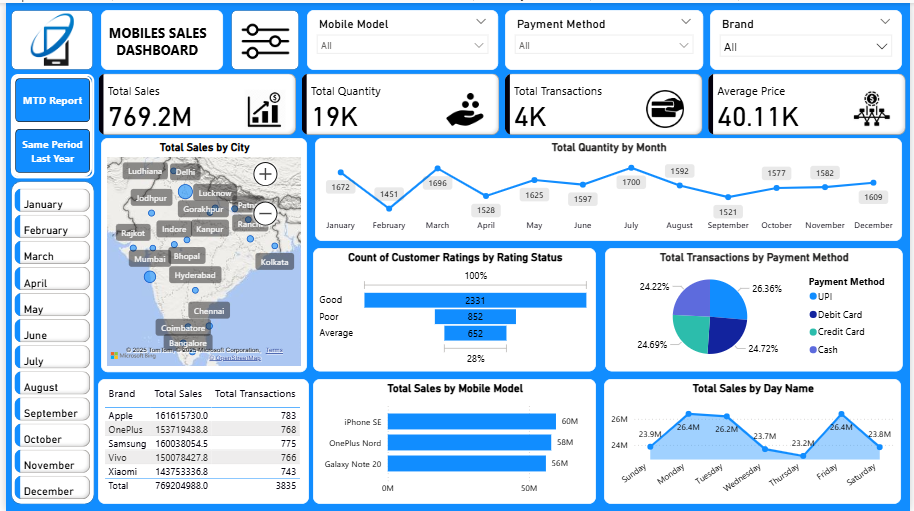

What the dashboard file says about the page in this screenshot:
{"tool":"powerbi","page":{"name":"Dashboard","canvas":[1280,720],"ordinal":0},"visuals":[{"type":"shape","box":[7.1,9.9,116.2,85],"z":0},{"type":"shape","box":[5.7,100.6,117.6,147.4],"z":1000},{"type":"shape","box":[6.7,251.7,118.3,458.3],"z":2000},{"type":"advancedSlicerVisual","fields":{"Values":["Custom_calendar_from_2021_2024.Date.Variation.Date Hierarchy.Month"]},"box":[7.1,258.6,117.1,451.4],"z":3000},{"type":"cardVisual","fields":{"Data":["Mobiles_sales_data.Total Sales","Mobiles_sales_data.Total Quantity","Mobiles_sales_data.Total Transactions","Mobiles_sales_data.Average Price"]},"box":[125.7,94.3,1154.3,97.1],"z":4000},{"type":"image","box":[618,116.2,65.2,69.4],"z":5000},{"type":"image","box":[333.1,113.4,68,75.1],"z":6000},{"type":"image","box":[1196.2,100.6,62.4,97.8],"z":7000},{"type":"image","box":[897.2,116.2,73.7,68],"z":8000},{"type":"slicer","fields":{"Values":["Mobiles_sales_data.Mobile Model"]},"box":[426.6,9.9,270.7,85],"z":9000},{"type":"slicer","fields":{"Values":["Mobiles_sales_data.Payment Method"]},"box":[707.2,9.9,280.6,85],"z":10000},{"type":"slicer","fields":{"Values":["Mobiles_sales_data.Brand"]},"box":[997.8,9.9,272.1,85],"z":11000},{"type":"textbox","box":[134.6,9.9,172.9,85],"z":12000},{"type":"shape","box":[318.9,9.9,96.4,85],"z":13000},{"type":"image","box":[321.7,17,90.7,70.9],"z":14000},{"type":"map","title":"Total Sales by City","fields":{"Category":["Mobiles_sales_data.City"],"Size":["Mobiles_sales_data.Total Sales"]},"box":[134.6,191.3,292,331.7],"z":15000},{"type":"lineChart","fields":{"Category":["Custom_calendar_from_2021_2024.Date.Variation.Date Hierarchy.Month"],"Y":["Mobiles_sales_data.Total Quantity"]},"box":[438,191.3,832,146],"z":16000},{"type":"image","box":[7.1,9.9,116.2,83.6],"z":17000},{"type":"funnel","fields":{"Category":["Mobiles_sales_data.Rating Status"],"Y":["CountNonNull(Mobiles_sales_data.Customer Ratings)"]},"box":[435.1,347.7,401.5,174.7],"z":18000},{"type":"pieChart","fields":{"Y":["Mobiles_sales_data.Total Transactions"],"Category":["Mobiles_sales_data.Payment Method"]},"box":[848.3,347.7,421.6,174.7],"z":19000},{"type":"clusteredBarChart","fields":{"Y":["Mobiles_sales_data.Total Sales"],"Category":["Mobiles_sales_data.Mobile Model"]},"box":[435.1,532.9,401.1,177.2],"z":20000},{"type":"areaChart","fields":{"Y":["Mobiles_sales_data.Total Sales"],"Category":["Custom_calendar_from_2021_2024.Day Name"]},"box":[847.1,532.9,421.4,177.1],"z":21000},{"type":"tableEx","fields":{"Values":["Mobiles_sales_data.Brand","Mobiles_sales_data.Total Sales","Mobiles_sales_data.Total Transactions"]},"box":[130.4,532.9,299.1,177.2],"z":22000},{"type":"pageNavigator","box":[7,100,118.3,147.9],"z":23000}]}

Visuals, with their boxes in screenshot pixels (x1, y1, x2, y2), scaled from the page's 1280x720 canvas onto the 914x511 screenshot:
shape: 5 7 88 67
shape: 4 71 88 176
shape: 5 179 89 504
advancedSlicerVisual - Custom_calendar_from_2021_2024.Date.Variation.Date Hierarchy.Month: 5 184 89 504
cardVisual - Mobiles_sales_data.Total Sales x Mobiles_sales_data.Total Quantity: 90 67 913 136
image: 441 82 488 132
image: 238 80 286 134
image: 854 71 899 141
image: 641 82 693 131
slicer - Mobiles_sales_data.Mobile Model: 305 7 498 67
slicer - Mobiles_sales_data.Payment Method: 505 7 705 67
slicer - Mobiles_sales_data.Brand: 712 7 907 67
textbox: 96 7 220 67
shape: 228 7 297 67
image: 230 12 294 62
"Total Sales by City" map: 96 136 305 371
lineChart - Custom_calendar_from_2021_2024.Date.Variation.Date Hierarchy.Month x Mobiles_sales_data.Total Quantity: 313 136 907 239
image: 5 7 88 66
funnel - Mobiles_sales_data.Rating Status x CountNonNull(Mobiles_sales_data.Customer Ratings): 311 247 597 371
pieChart - Mobiles_sales_data.Total Transactions x Mobiles_sales_data.Payment Method: 606 247 907 371
clusteredBarChart - Mobiles_sales_data.Total Sales x Mobiles_sales_data.Mobile Model: 311 378 597 504
areaChart - Mobiles_sales_data.Total Sales x Custom_calendar_from_2021_2024.Day Name: 605 378 906 504
tableEx - Mobiles_sales_data.Brand x Mobiles_sales_data.Total Sales: 93 378 307 504
pageNavigator: 5 71 89 176
